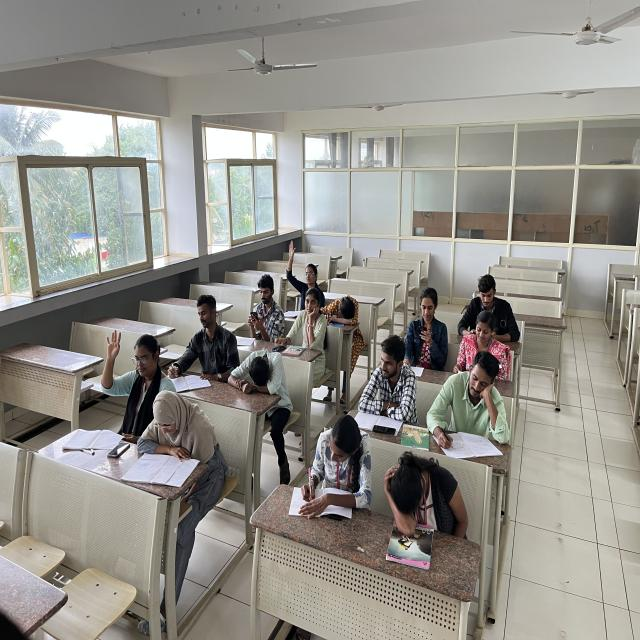Hand Rising: (96, 327, 167, 409), (286, 242, 330, 306)
Reading: (140, 388, 224, 480), (457, 274, 519, 342)
Sleeping: (381, 454, 458, 521), (227, 343, 285, 393), (326, 293, 361, 326)
Using Phone: (408, 283, 453, 354), (250, 278, 287, 338)
Writing: (427, 353, 512, 455), (300, 421, 376, 524), (167, 294, 225, 388)
